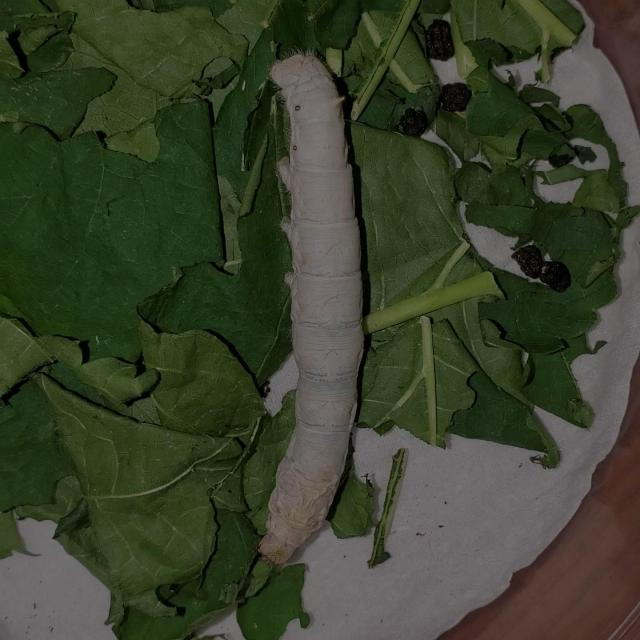Healthy: (205, 19, 408, 590)
